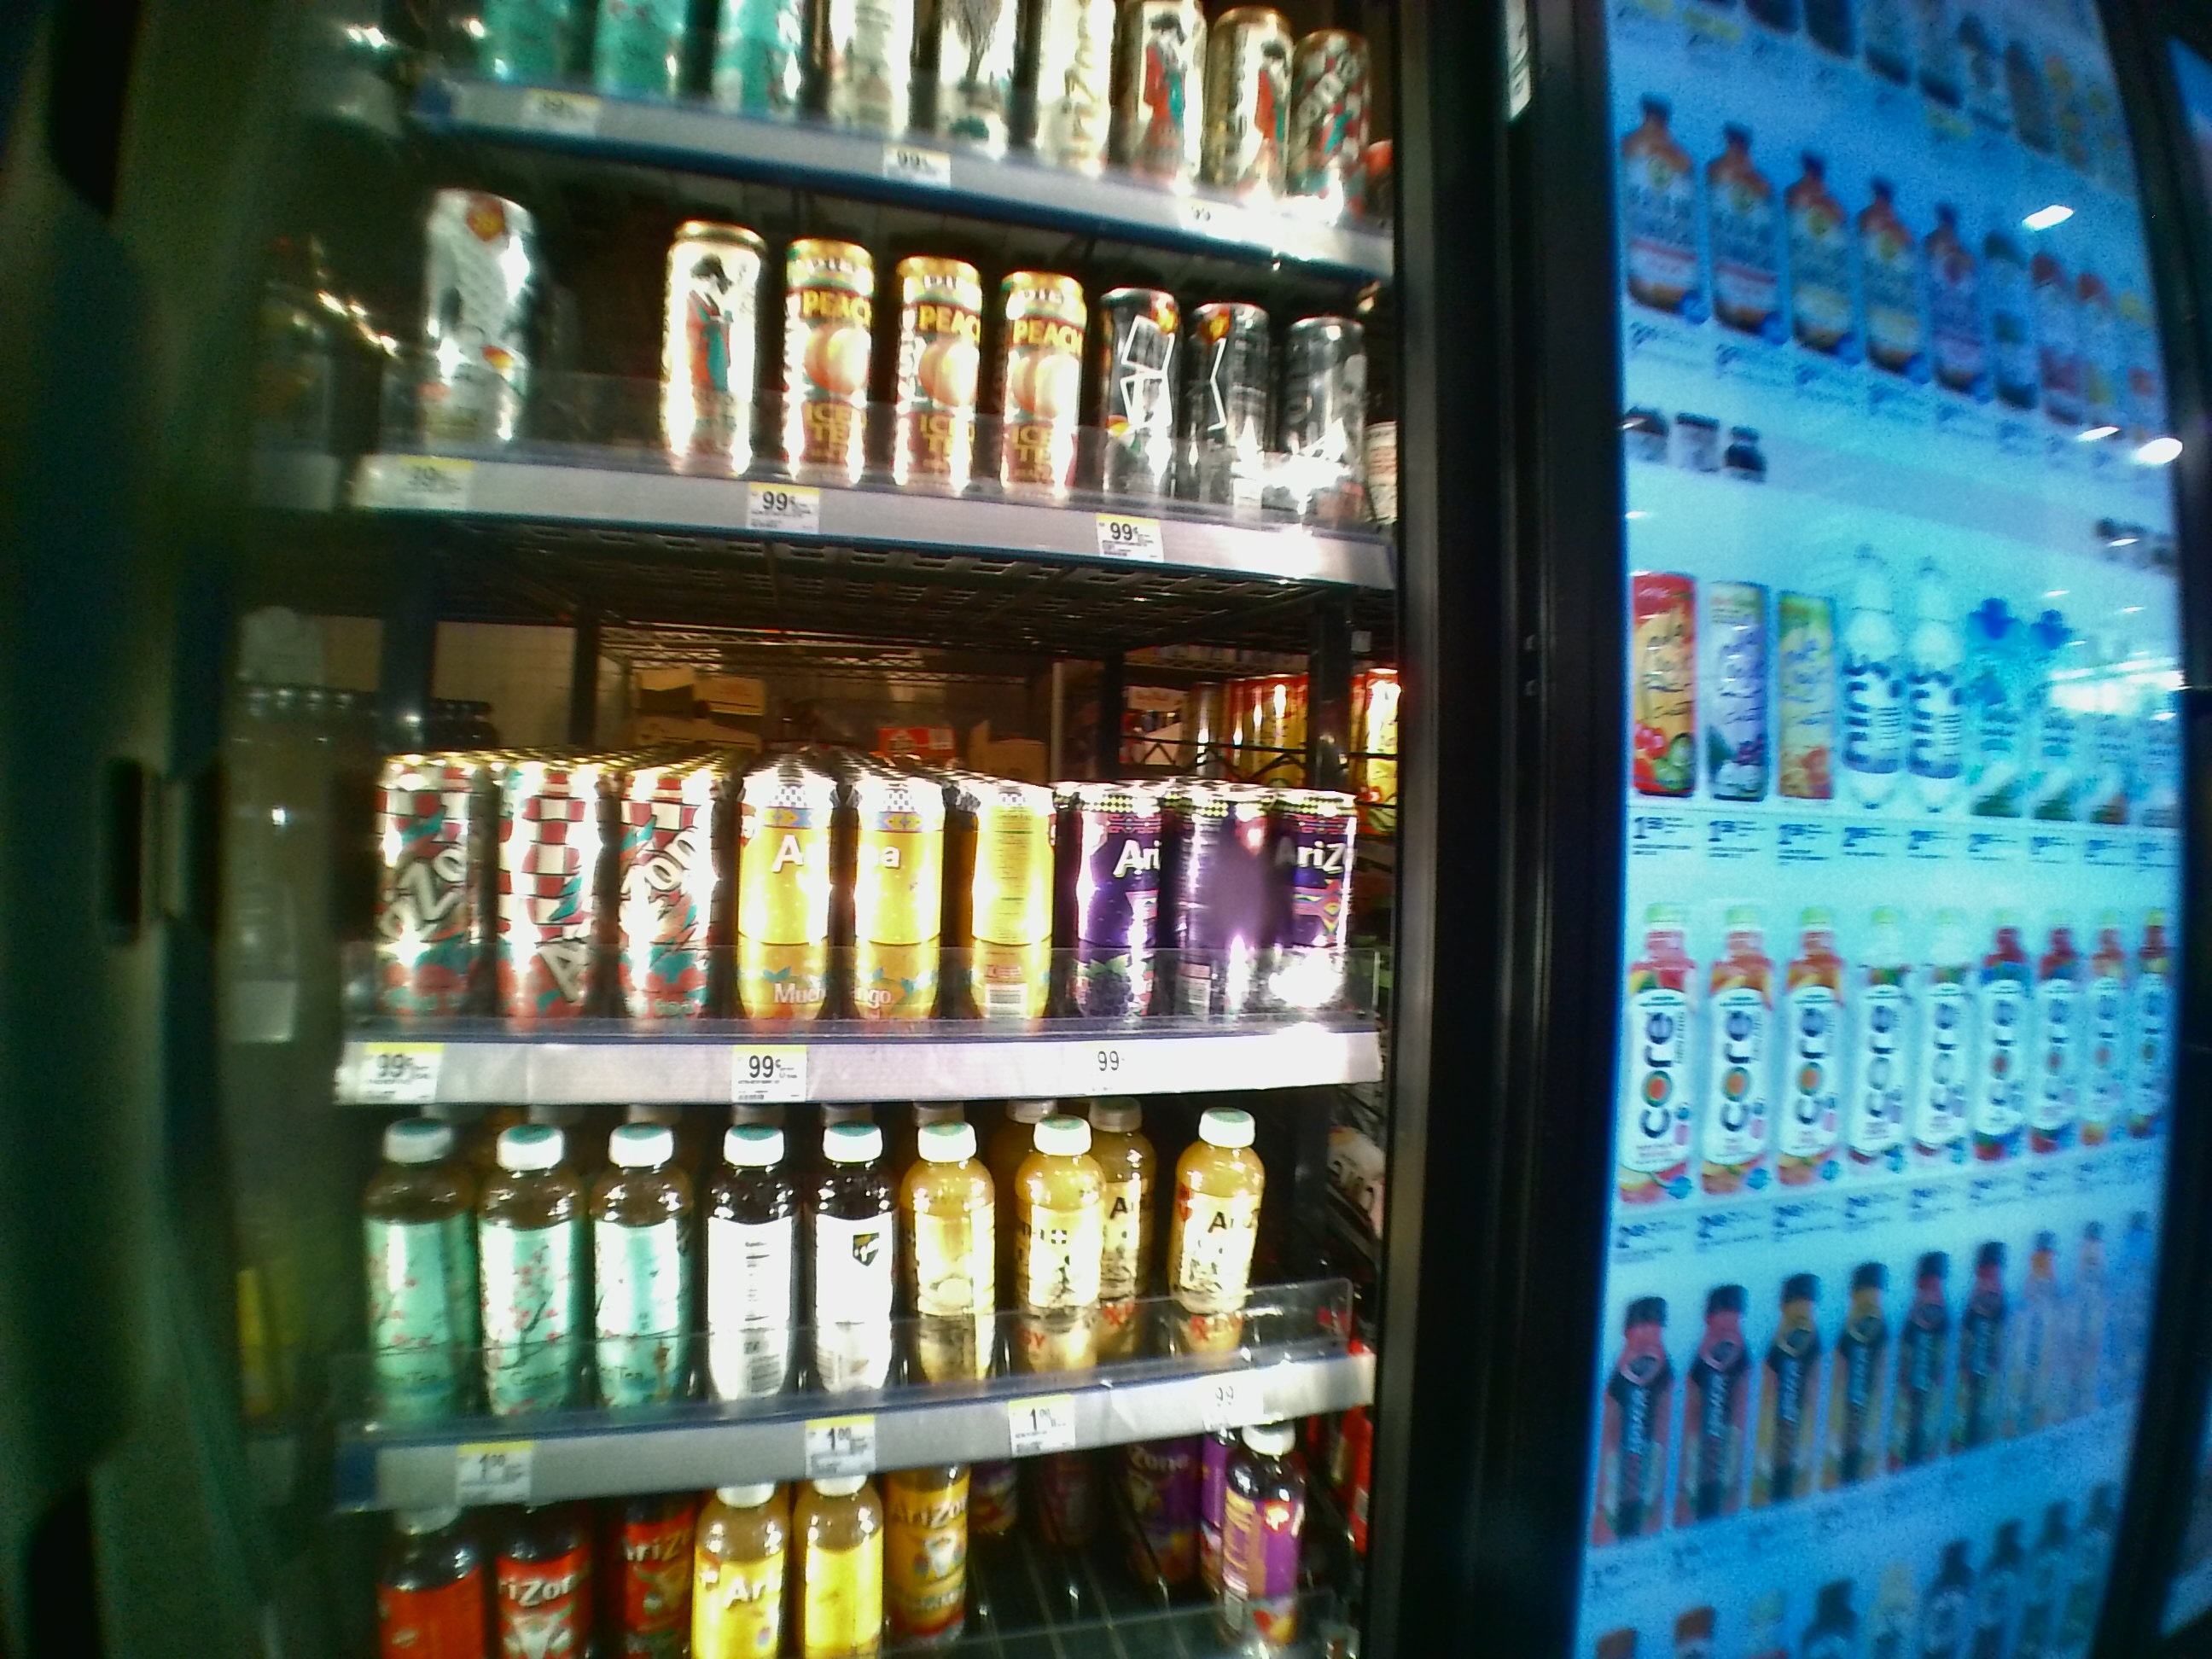shelf: (326, 518, 1388, 1105)
